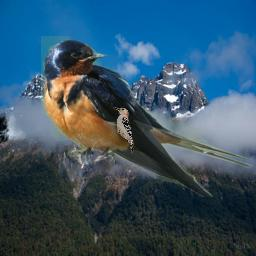Swallow: (41, 36, 253, 197)
Woodpecker: (113, 105, 136, 154)
